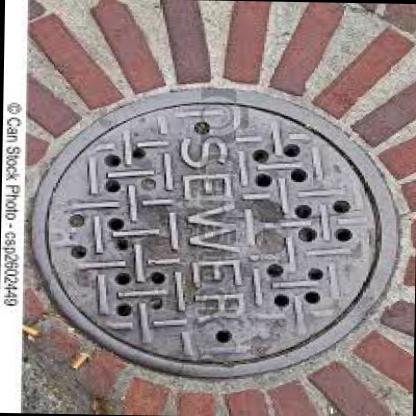manholes: (20, 68, 414, 382)
